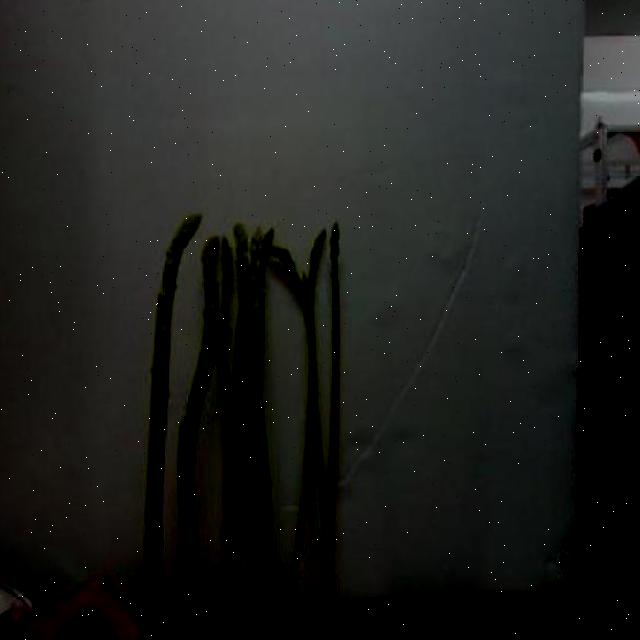aspargus: (140, 215, 337, 640)
